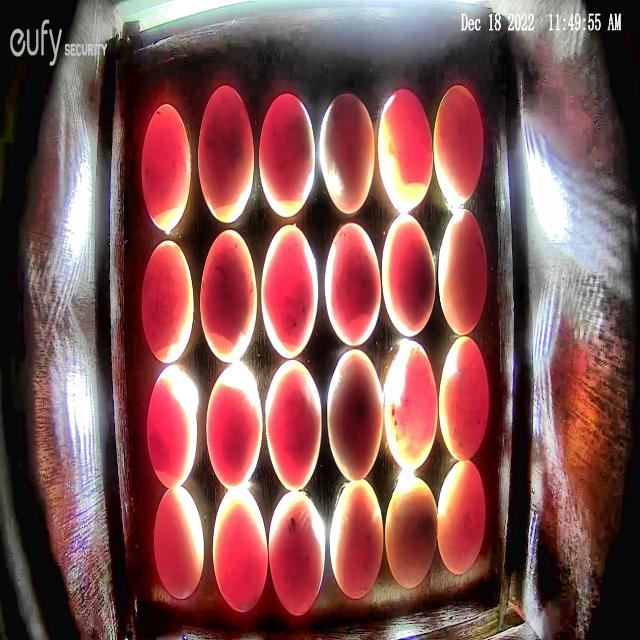FE: (200, 229, 258, 364), (198, 84, 254, 223), (261, 224, 319, 358), (264, 358, 322, 492), (326, 350, 383, 480), (206, 363, 264, 489), (384, 338, 438, 473), (376, 88, 434, 213), (258, 93, 316, 217), (324, 222, 382, 346), (212, 486, 268, 612), (268, 491, 324, 616), (319, 93, 375, 214), (381, 214, 436, 337), (329, 478, 384, 599), (140, 104, 192, 231), (141, 240, 194, 364), (146, 364, 198, 490), (438, 334, 489, 460), (438, 207, 487, 335), (384, 474, 438, 589), (434, 85, 482, 207), (437, 459, 487, 574), (154, 486, 204, 600)
